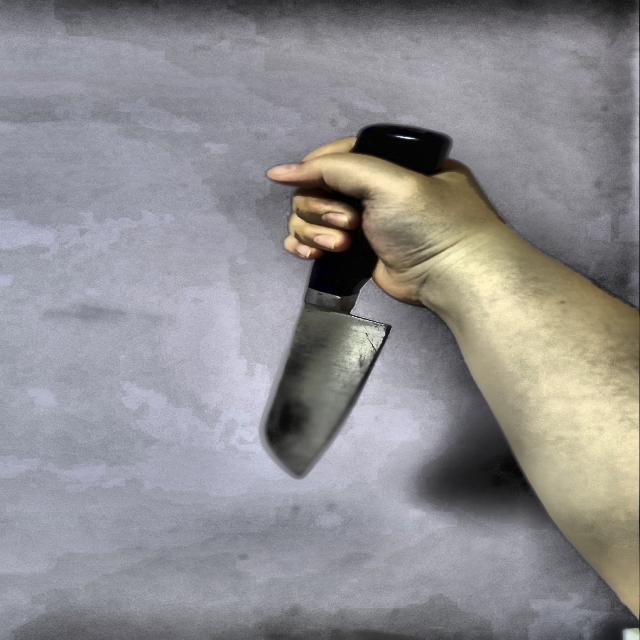knife: (259, 120, 456, 480)
